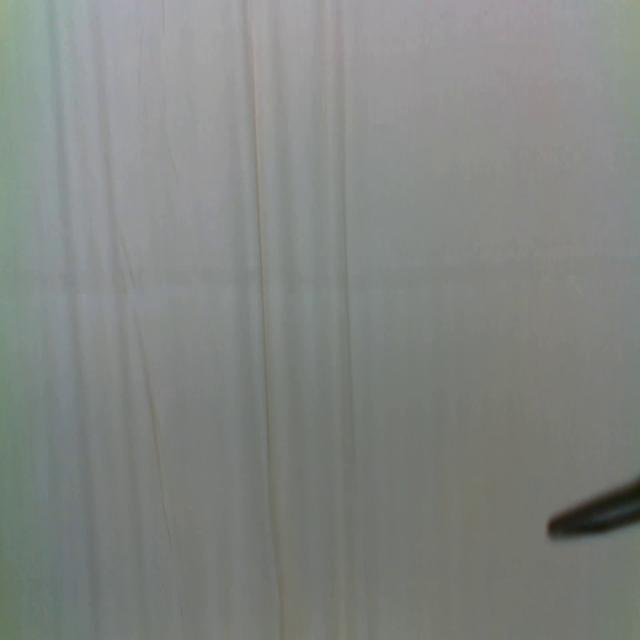color bleeding: (5, 236, 640, 302)
crease: (247, 1, 286, 636), (338, 115, 364, 500)
